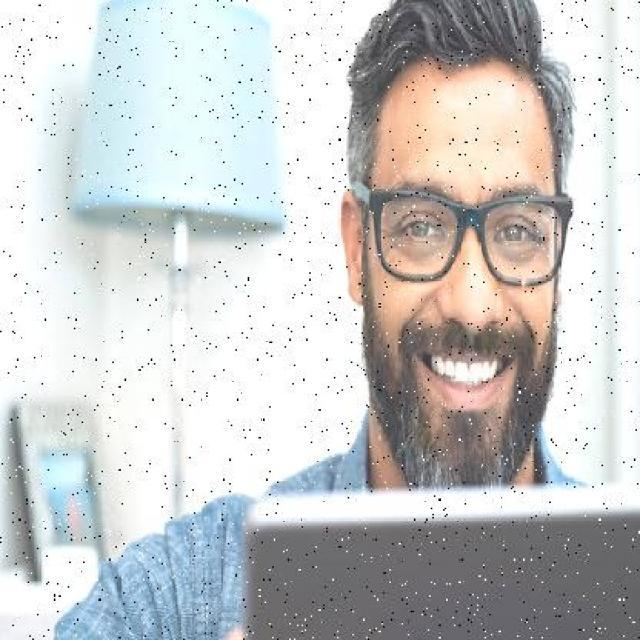mask: (352, 178, 580, 292)
